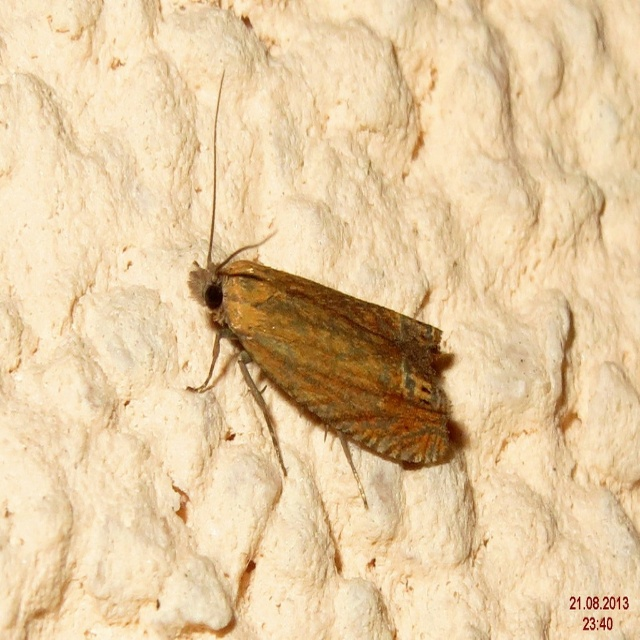Moths and butterflies: (182, 63, 453, 511)
